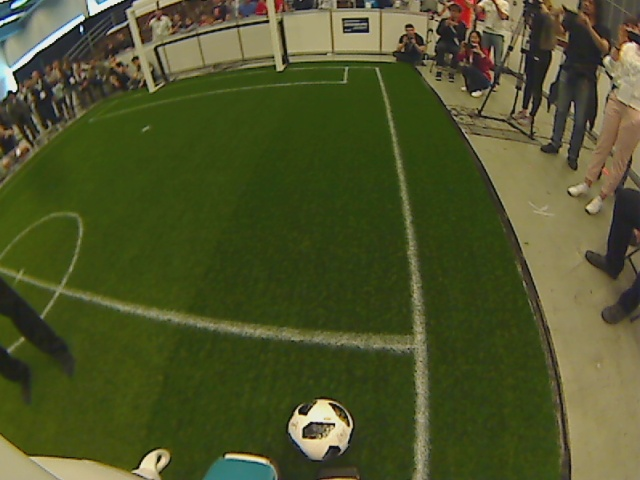ball: (286, 395, 356, 463)
